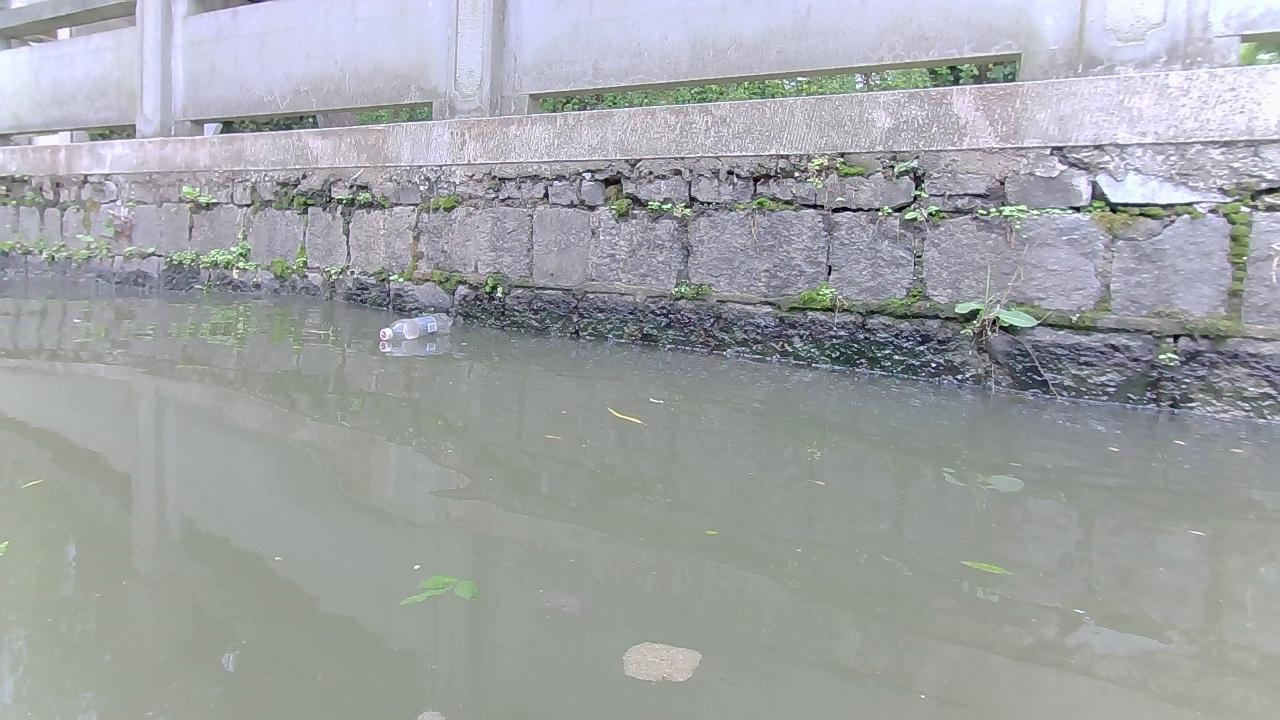bottle: (379, 311, 453, 341)
